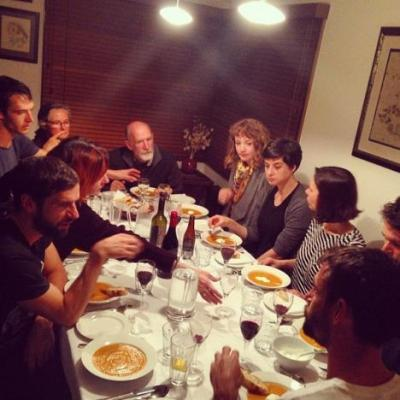netural: (41, 183, 79, 237), (135, 129, 153, 162), (234, 132, 254, 161)
sad: (9, 94, 34, 133), (263, 154, 287, 184)
